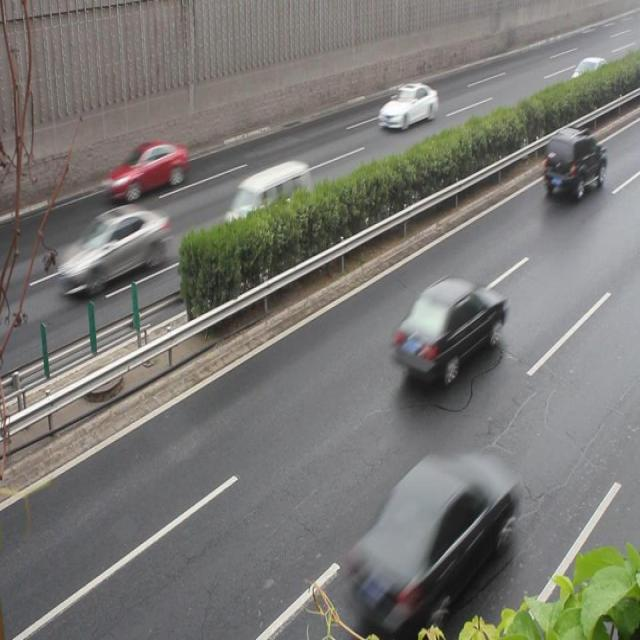car: (356, 447, 510, 615), (391, 274, 504, 383), (57, 202, 168, 292), (540, 122, 603, 202), (106, 140, 186, 197), (377, 80, 437, 132)
